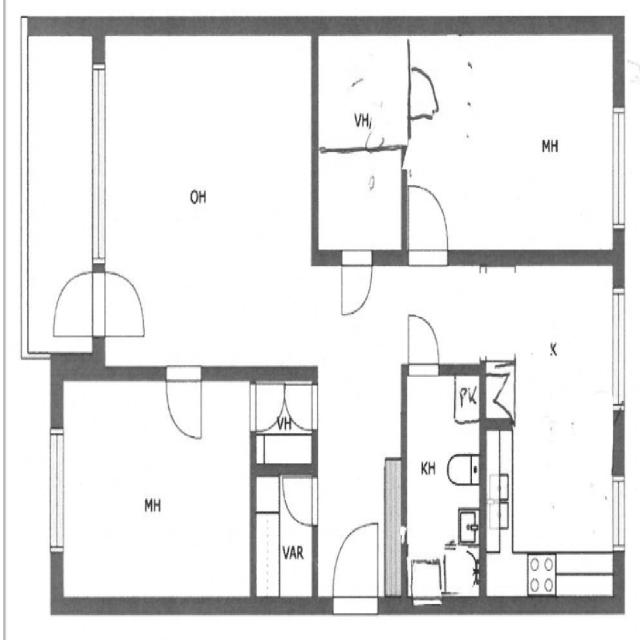door: (44, 266, 151, 346), (331, 516, 383, 616), (156, 360, 208, 446), (402, 177, 450, 270), (336, 242, 378, 329), (278, 372, 322, 448), (404, 303, 441, 389), (278, 468, 320, 540), (406, 53, 442, 128), (478, 360, 518, 426), (240, 376, 288, 428)
window: (604, 96, 634, 252), (89, 55, 109, 267), (46, 417, 71, 561), (608, 269, 628, 431), (604, 468, 633, 558)
zone: (101, 27, 315, 366), (406, 25, 620, 259), (476, 257, 621, 600), (55, 370, 254, 606), (405, 358, 485, 608), (316, 30, 412, 159), (312, 146, 403, 262), (252, 468, 317, 606), (252, 374, 319, 472)
